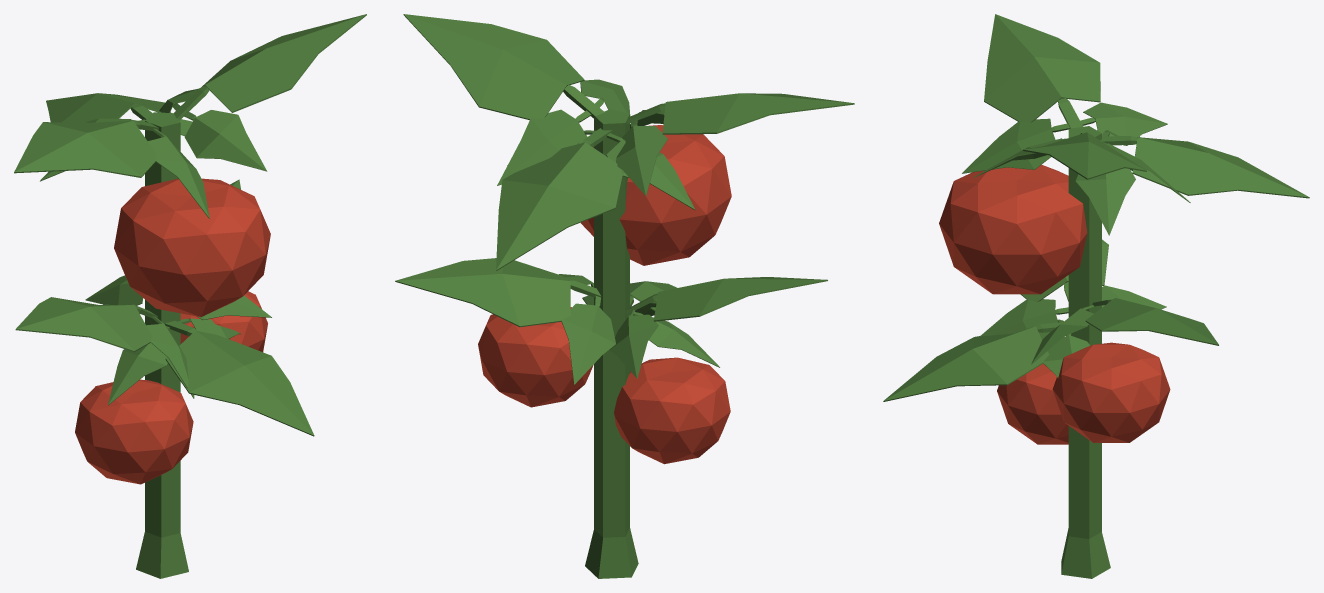
Rendered from TomatoPlant_Stage_03.fbx.
The picture shows the model from 3 angles, left to right: view 1: azimuth 30°, elevation 25°; view 2: azimuth 150°, elevation 25°; view 3: azimuth 270°, elevation 25°; orthographic projection. The views are drawn at different scales.
Visible parts, largest first — view 1: TomatoPlant_Stage_03; view 2: TomatoPlant_Stage_03; view 3: TomatoPlant_Stage_03.
Boxes of the visible parts, box(x1,y1,x2,y2) form: TomatoPlant_Stage_03: box(14, 14, 366, 578); TomatoPlant_Stage_03: box(395, 14, 854, 578); TomatoPlant_Stage_03: box(883, 14, 1309, 578).
Size of the model in its own units: 235 by 281 by 223.
